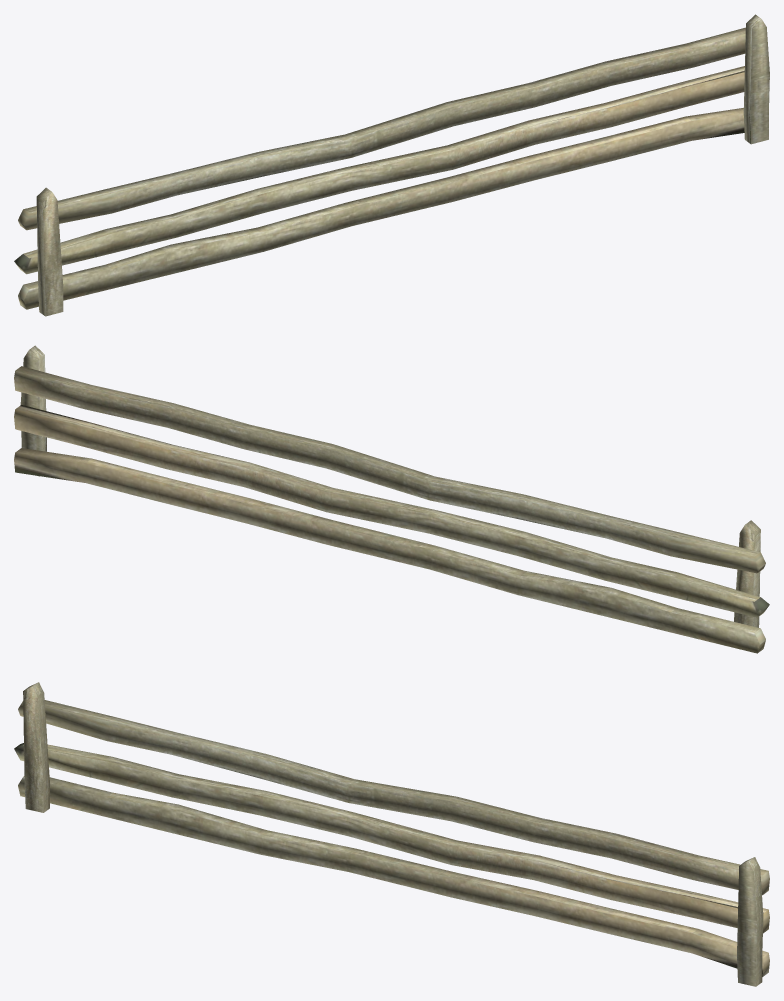
File: fence2_endpiece.obj
3 views of the same model, one above another, from view 1: azimuth 30°, elevation 25°; view 2: azimuth 150°, elevation 25°; view 3: azimuth 330°, elevation 25° (orthographic).
Parts seen in each view (by area): view 1: wdfen2; view 2: wdfen2; view 3: wdfen2.
Part boxes in pixels (left/top/right/bottom): wdfen2: left=14, top=14, right=769, bottom=316; wdfen2: left=14, top=345, right=769, bottom=653; wdfen2: left=14, top=682, right=769, bottom=986.
Size of the model in its own units: 9 by 1.42 by 0.2739.
Materials: 1 (1 with a texture image).
